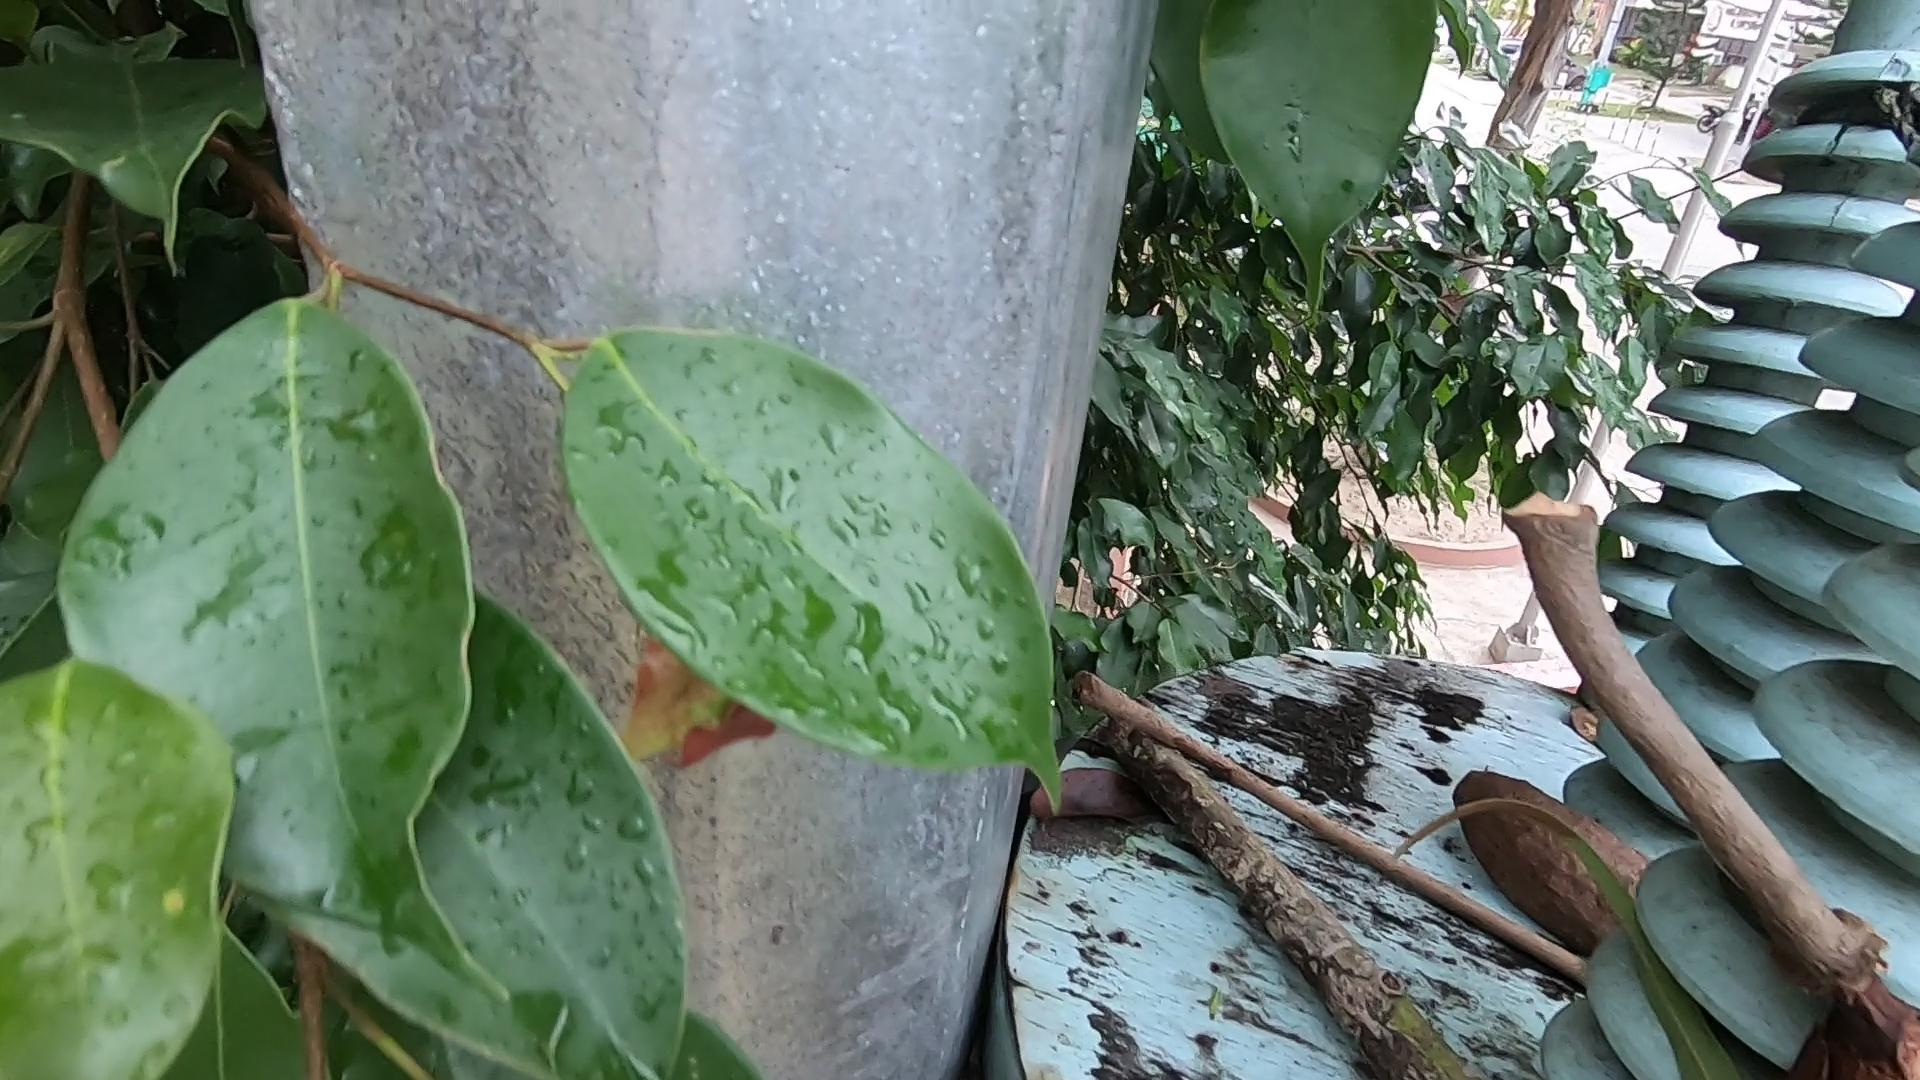branch with leaves: (1114, 732, 1466, 1065)
leaf: (1035, 732, 1189, 869)
mahogany fruit: (1433, 699, 1607, 905), (1778, 923, 1912, 1076)
tree branch: (1458, 463, 1891, 1019), (1064, 665, 1640, 978)
